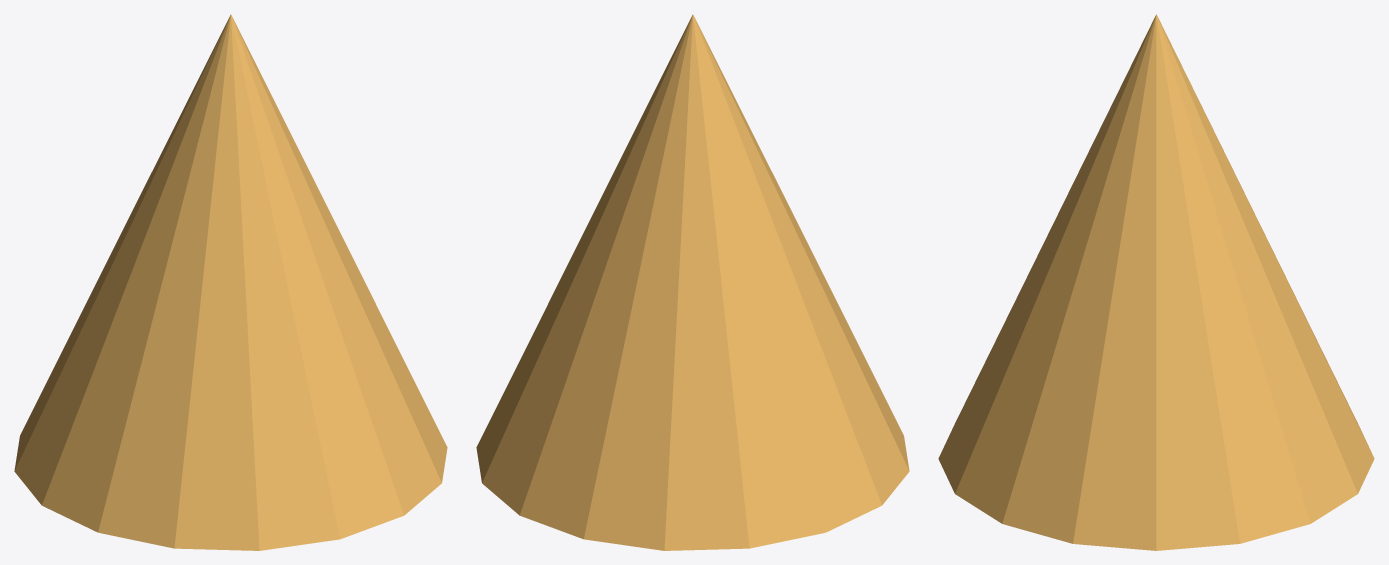
The model's file is Bad File Name With Spaces.glb.
3 views of the same model, side by side, from view 1: azimuth 30°, elevation 25°; view 2: azimuth 150°, elevation 25°; view 3: azimuth 270°, elevation 25° (orthographic).
Visible parts, largest first — view 1: Bad Naming Example; view 2: Bad Naming Example; view 3: Bad Naming Example.
Part boxes in pixels (x1,y1,x2,y2): Bad Naming Example: (14,14,447,550); Bad Naming Example: (476,14,909,550); Bad Naming Example: (938,14,1374,550).
Size of the model in its own units: 0.8 by 0.9 by 0.8.
